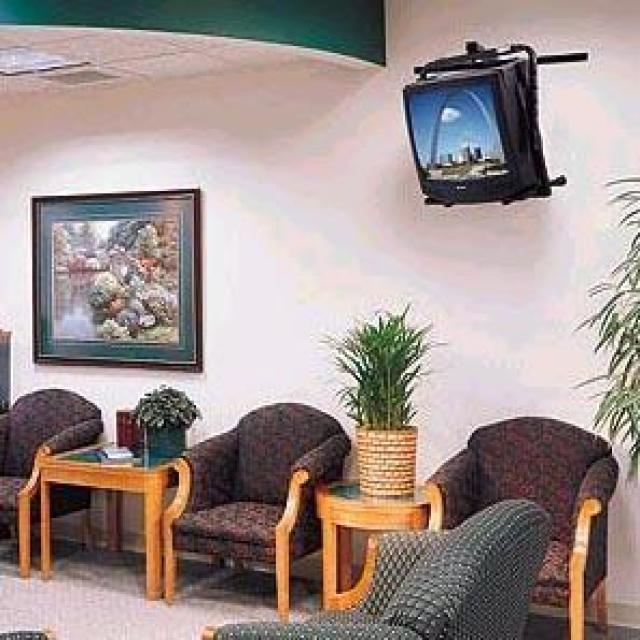chair: (200, 495, 552, 638), (162, 400, 351, 622), (0, 387, 103, 578)
plant: (129, 382, 203, 458)
plants: (319, 302, 446, 497)
pots: (353, 424, 416, 497)
sofa: (422, 414, 618, 638)
table: (34, 440, 190, 601)
